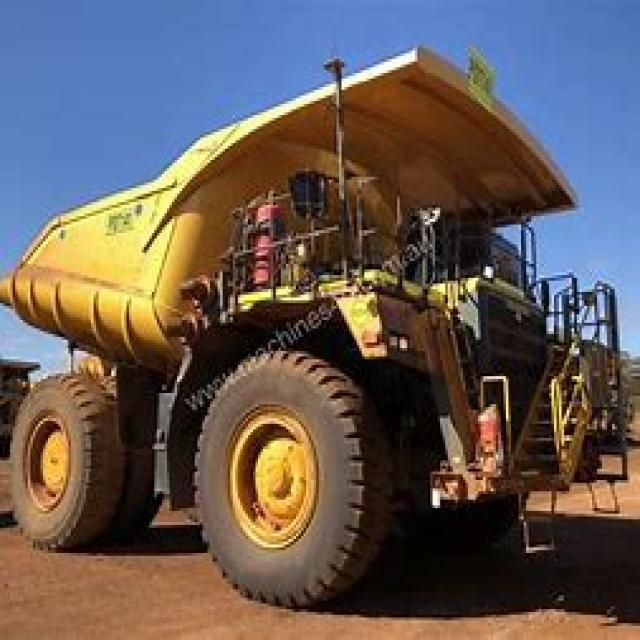dump_truck: (10, 45, 579, 603)
